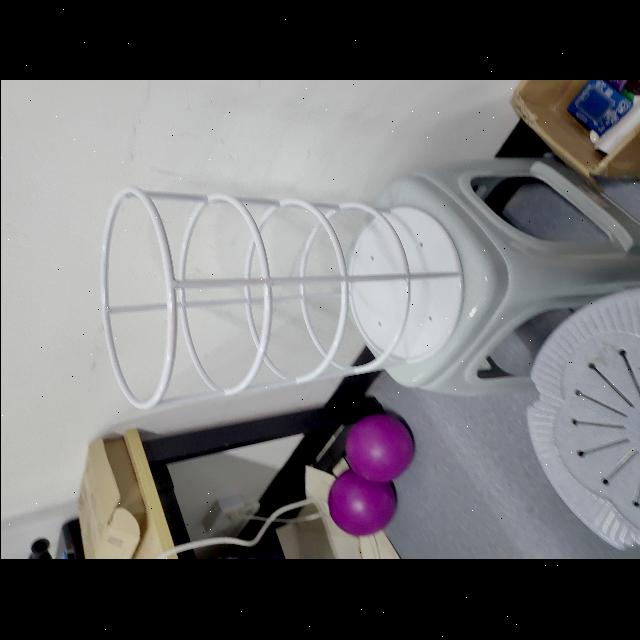S: (95, 182, 465, 412)
